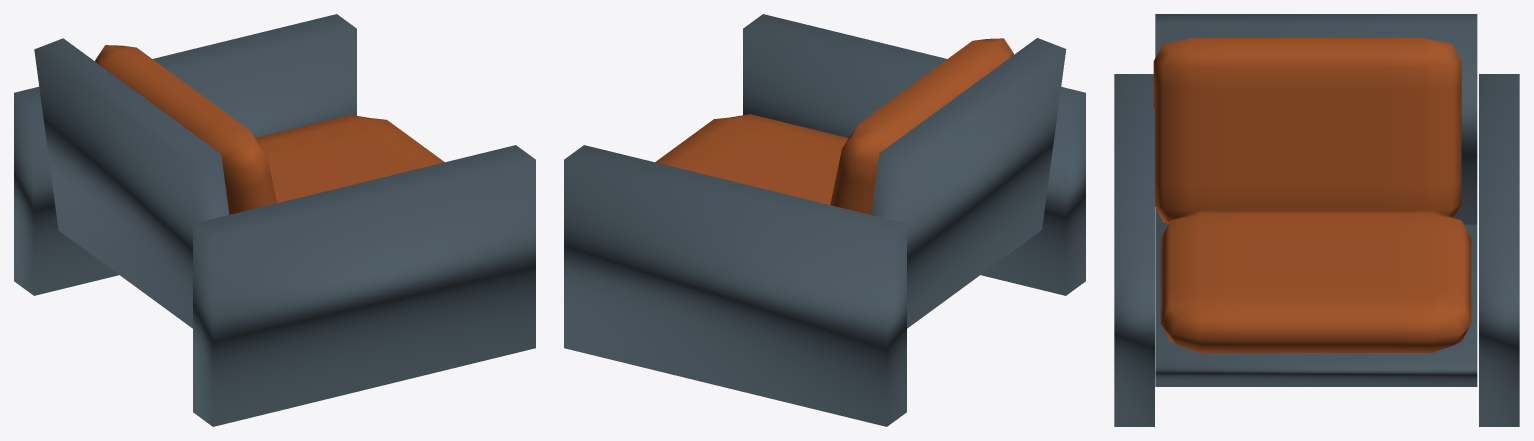
Rendered from CPI441_Fur_Couch_1_Single-V2_Orange.fbx.
3 renders of one model, left to right at view 1: azimuth 30°, elevation 25°; view 2: azimuth 150°, elevation 25°; view 3: azimuth 270°, elevation 25°, orthographic.
Visible parts, largest first — view 1: Cube.004; view 2: Cube.004; view 3: Cube.004.
Part boxes in pixels (left/top/right/bottom): Cube.004: left=14, top=14, right=535, bottom=426; Cube.004: left=564, top=14, right=1085, bottom=426; Cube.004: left=1114, top=14, right=1519, bottom=426.
Size of the model in its own units: 375 by 267 by 382.
